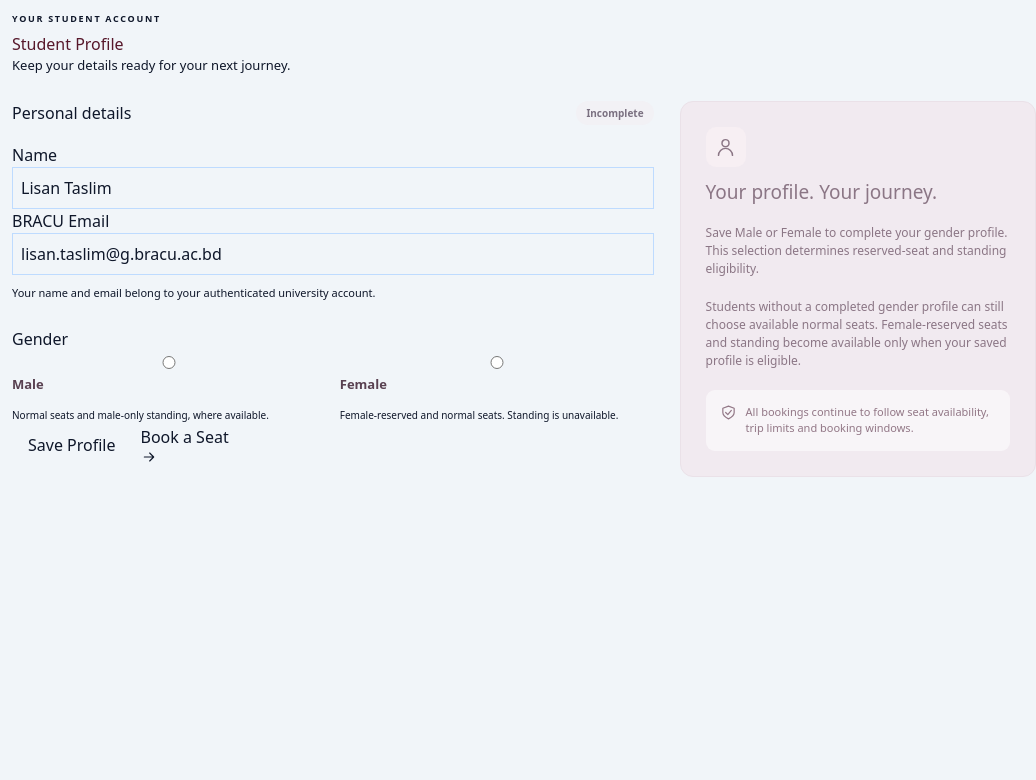
Test: requires an explicit choice and reports save errors without changing identity
The image size is (1036, 780).
Expected: the field labelled "Name" is shown, x1=12 y1=167 x2=654 y2=209
Click the button "Save Profile".
click(72, 445)  # box x1=12 y1=425 x2=132 y2=465
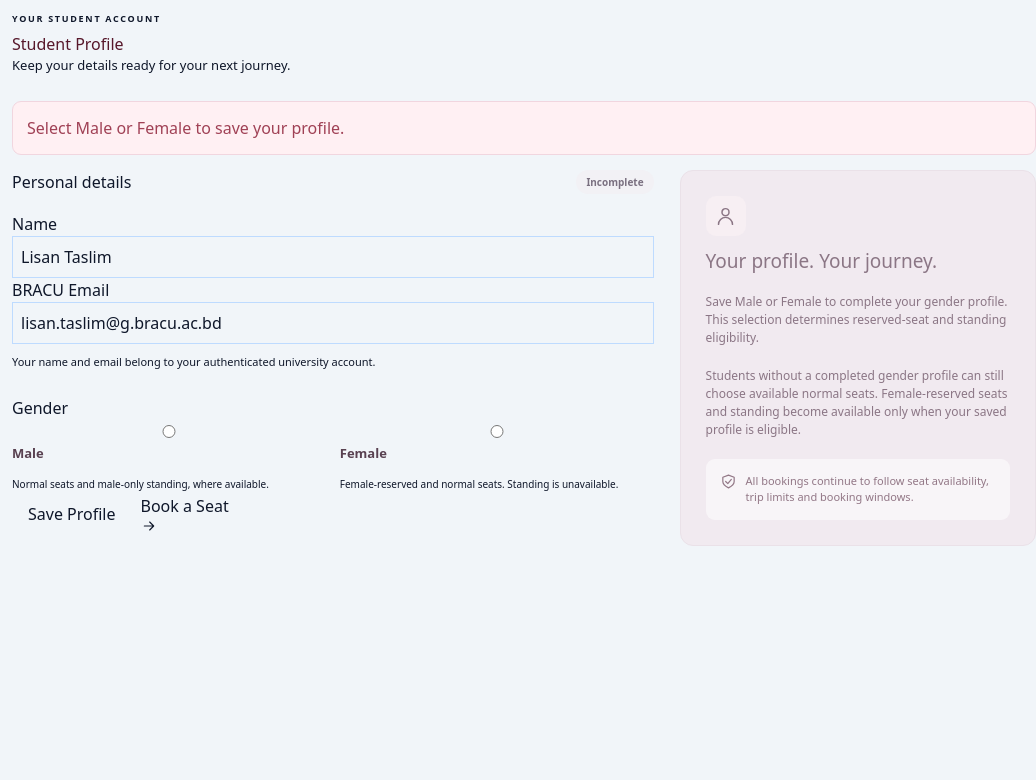
Expected: the message shows "Select Male or Female", x1=27 y1=117 x2=344 y2=139
Click the radio button labelled "Male".
click(169, 431)  # box x1=12 y1=424 x2=326 y2=438
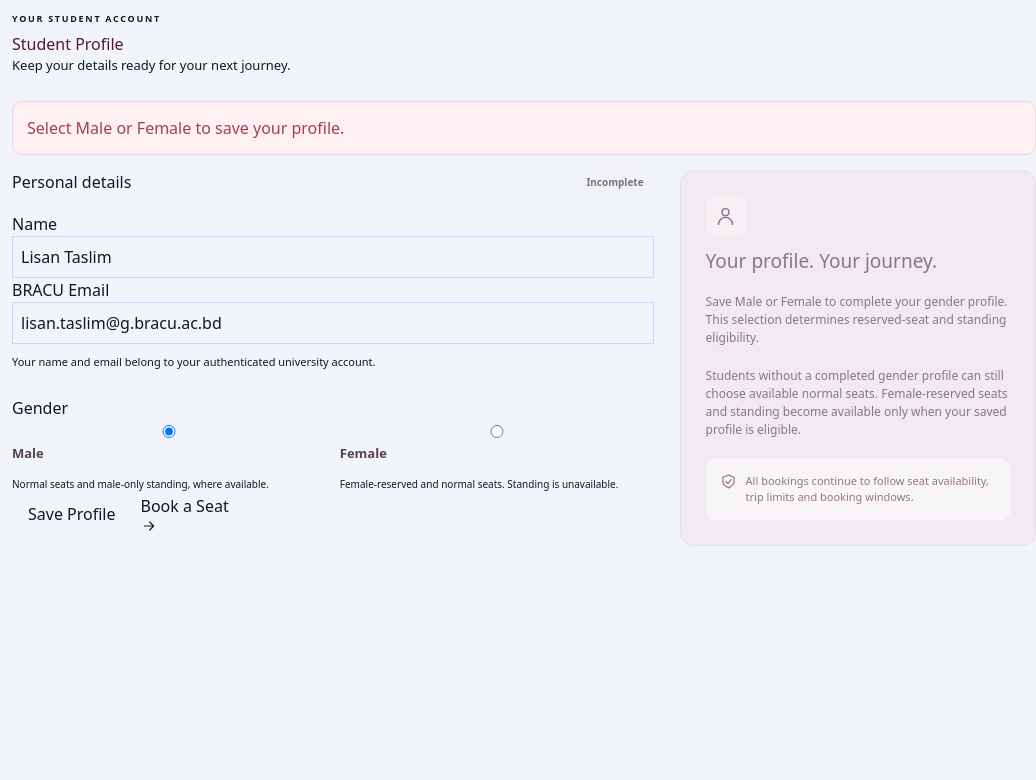
Click the button "Save Profile".
click(72, 514)  # box x1=12 y1=494 x2=132 y2=534
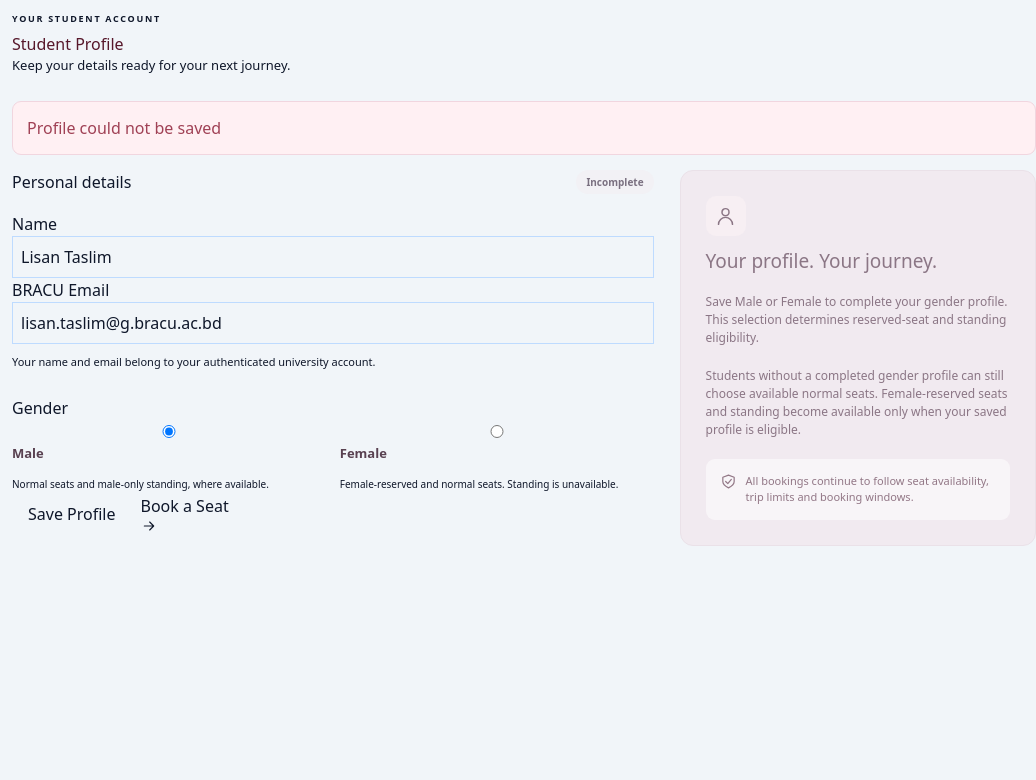
Expected: the field labelled "Name" holds "Lisan Taslim", x1=12 y1=236 x2=654 y2=278
Expected: the text "Profile could not be saved" is shown, x1=12 y1=101 x2=1035 y2=155
